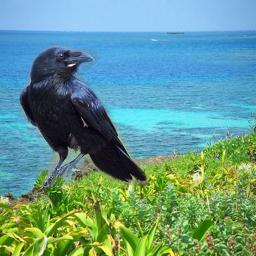Crow: (19, 45, 150, 187)
